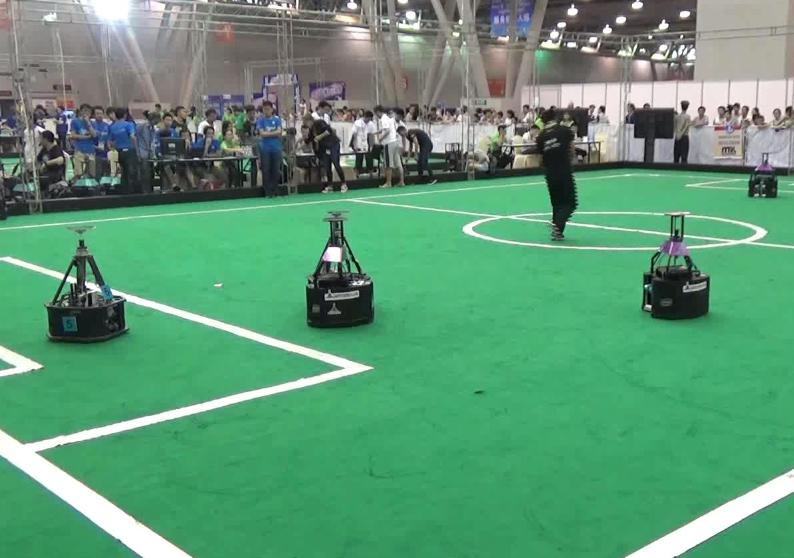robot: (38, 224, 133, 346), (299, 209, 377, 332), (639, 207, 712, 321), (746, 150, 784, 203)
